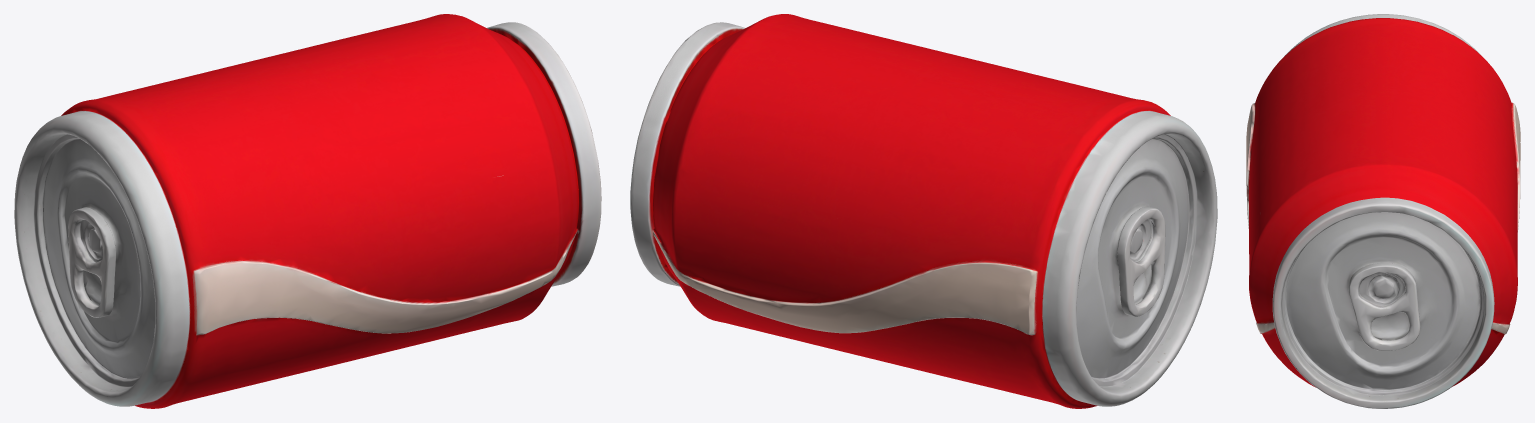
Rendered from cola.glb.
3 renders of one model, left to right at view 1: azimuth 30°, elevation 25°; view 2: azimuth 150°, elevation 25°; view 3: azimuth 270°, elevation 25°, orthographic. The views are drawn at different scales.
Visible parts, largest first — view 1: tripo_node_e312d8be-18c8-40d5-8a3c-9ebc8455c17a; view 2: tripo_node_e312d8be-18c8-40d5-8a3c-9ebc8455c17a; view 3: tripo_node_e312d8be-18c8-40d5-8a3c-9ebc8455c17a.
Boxes of the visible parts, x1,y1,x2,y2 form: tripo_node_e312d8be-18c8-40d5-8a3c-9ebc8455c17a: (14, 14, 601, 408); tripo_node_e312d8be-18c8-40d5-8a3c-9ebc8455c17a: (630, 14, 1217, 408); tripo_node_e312d8be-18c8-40d5-8a3c-9ebc8455c17a: (1246, 14, 1520, 408).
Bounding box in the file's own units: 0.9781 × 0.5875 × 0.61.
1 material, 1 textured.
